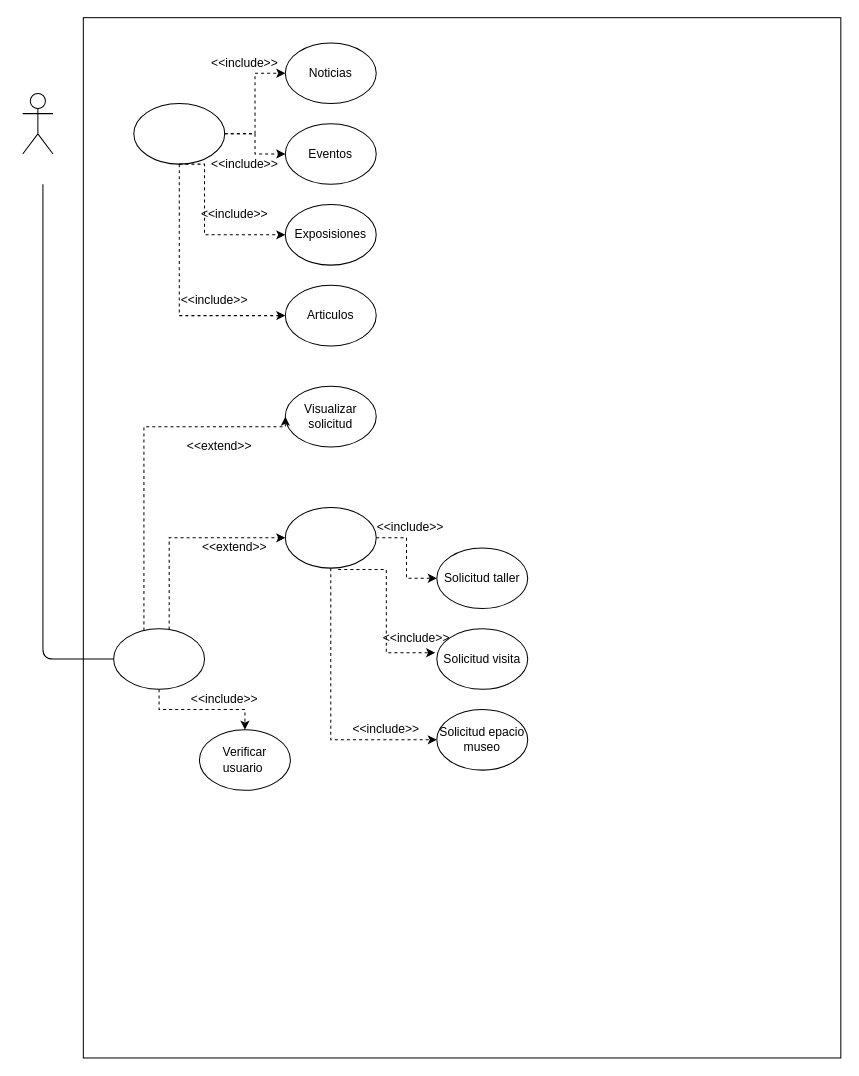
This 859x1076 diagram has some shape labels left out. The shapes that lost their labels are listed below. From the top down, each one's box as (x1, y1, x2, y2) in pixels, then its label:
(22, 92, 53, 154): Uusario
(133, 103, 225, 164): Visualizar contenidos
(284, 507, 376, 568): Realizar solicitud
(113, 628, 205, 689): Login
